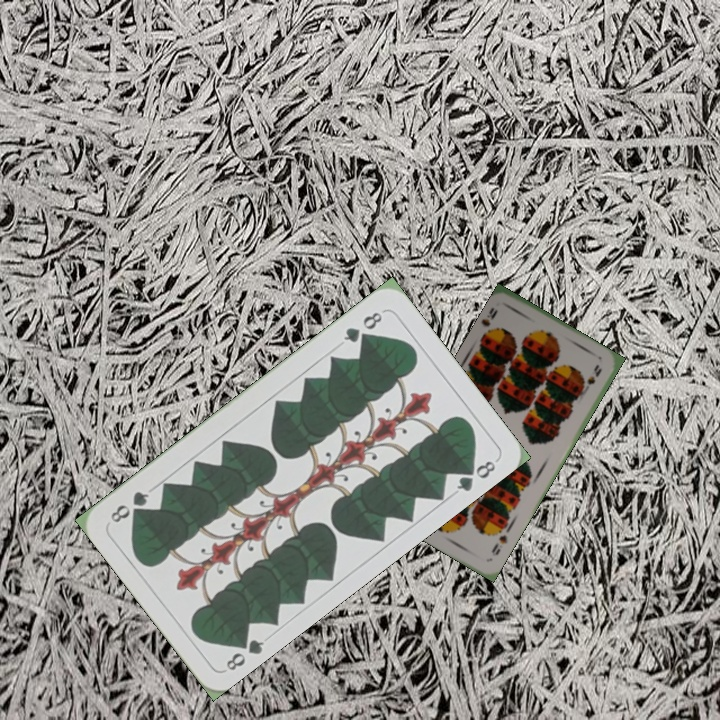G8: (221, 630, 267, 674), (339, 307, 385, 346)
S9: (478, 303, 501, 340), (487, 530, 510, 559)
